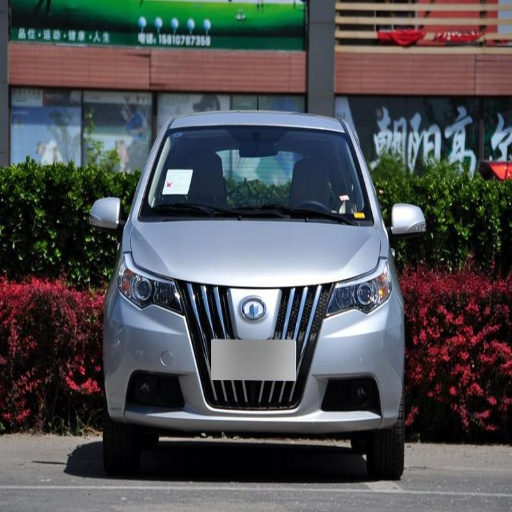front_bumper: (103, 279, 401, 437)
front_right_light: (116, 256, 182, 312)
hood: (128, 221, 382, 286)
left_mirror: (388, 203, 426, 237)
